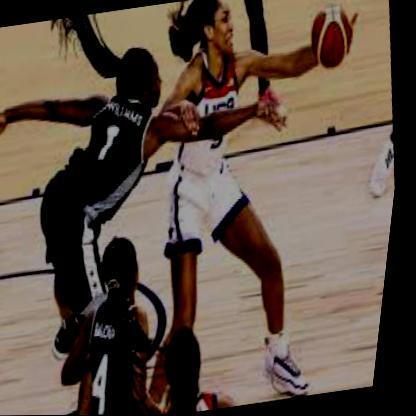basketball: (305, 2, 359, 72)
